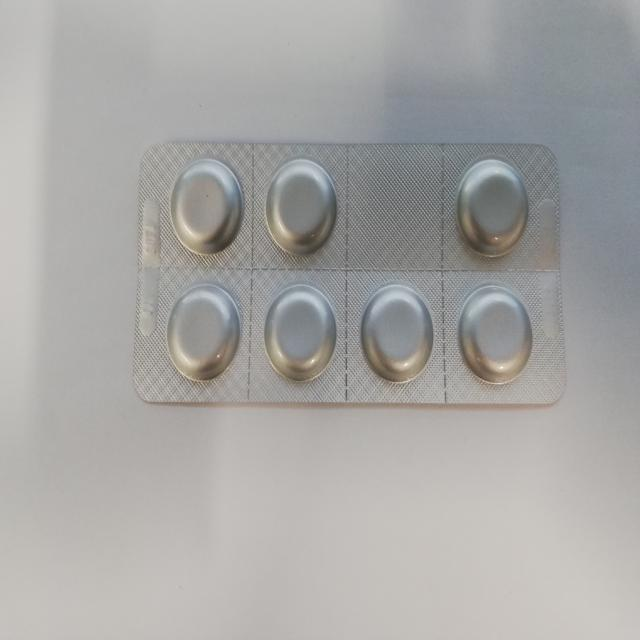Pill: (160, 284, 244, 386), (260, 285, 340, 389), (453, 287, 536, 383), (360, 285, 438, 387), (457, 157, 535, 255), (167, 156, 243, 256), (261, 159, 335, 256)
